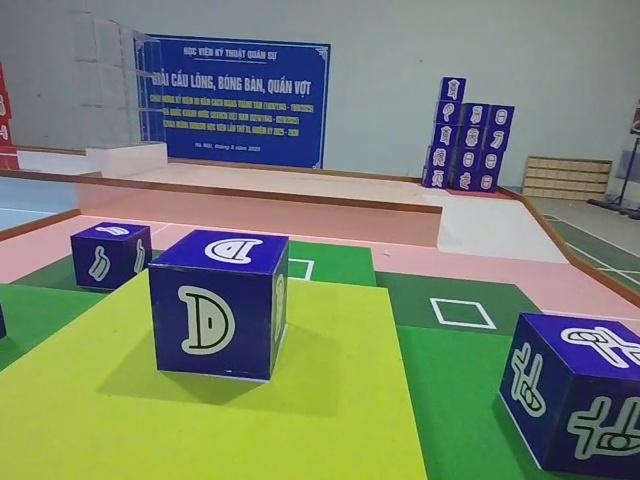R2 Real Blue: (500, 313, 640, 480), (150, 229, 292, 385), (69, 223, 152, 294)
